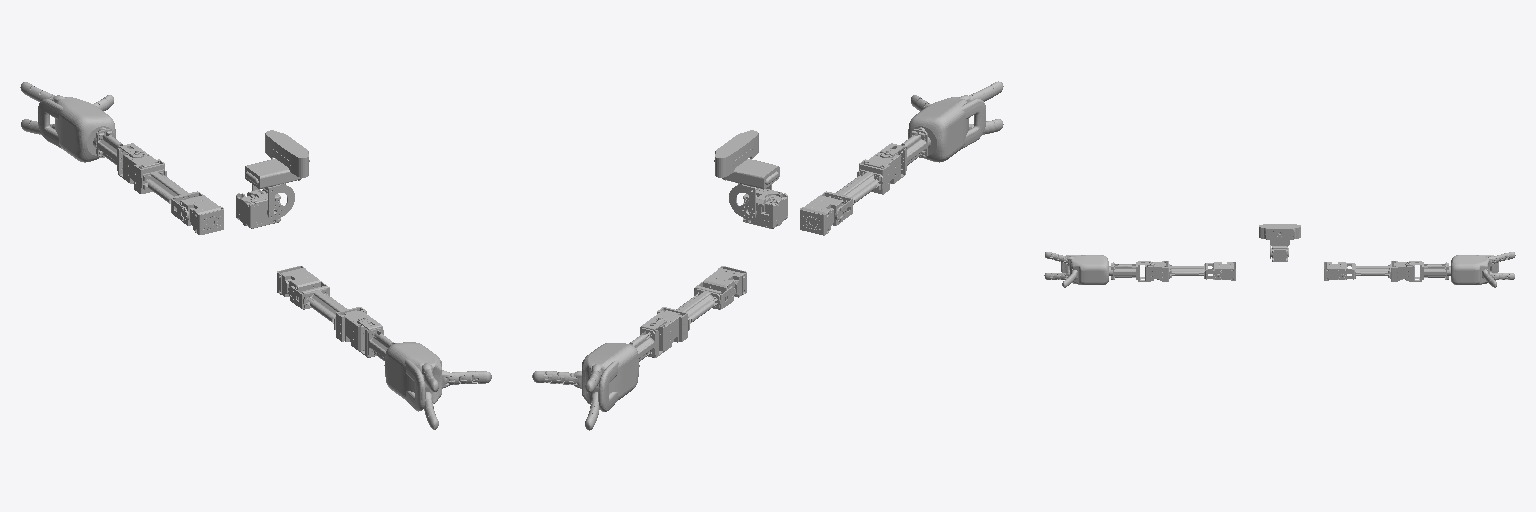
--- Render facts (derived) ---
Views: 3 orthographic renders of the robot side by side, from view 1: azimuth 30°, elevation 25°; view 2: azimuth 150°, elevation 25°; view 3: azimuth 270°, elevation 25°.
Robot: 323Assembase_limit3 — 29 links, 28 joints (28 revolute); root link base_link; default pose: every joint at zero.
Links seen in each view (by area): view 1: l_wrist_Link, head_tilt_Link, r_wrist_Link, l_sho_roll_Link, r_sho_roll_Link, l_sho_pitch_Link, head_pan_Link, l_el_Link, r_sho_pitch_Link, r_el_Link; view 2: r_wrist_Link, head_tilt_Link, l_wrist_Link, r_sho_roll_Link, l_sho_roll_Link, r_sho_pitch_Link, head_pan_Link, r_el_Link, l_sho_pitch_Link, l_el_Link; view 3: l_wrist_Link, r_wrist_Link, l_sho_roll_Link, r_sho_roll_Link, head_tilt_Link, l_el_Link, r_el_Link.
Link boxes in pixels (box(x1,y1,x2,y2)): l_wrist_Link: box(38, 95, 115, 162); head_tilt_Link: box(245, 130, 309, 219); r_wrist_Link: box(384, 342, 453, 411); l_sho_roll_Link: box(123, 150, 202, 221); r_sho_roll_Link: box(290, 281, 375, 350); l_sho_pitch_Link: box(180, 195, 223, 234); head_pan_Link: box(236, 188, 280, 228); l_el_Link: box(93, 127, 143, 177); r_sho_pitch_Link: box(277, 266, 320, 305); r_el_Link: box(357, 317, 394, 360); r_wrist_Link: box(908, 95, 985, 162); head_tilt_Link: box(714, 130, 779, 219); l_wrist_Link: box(570, 343, 639, 411); r_sho_roll_Link: box(822, 150, 900, 221); l_sho_roll_Link: box(650, 282, 733, 351); r_sho_pitch_Link: box(800, 195, 843, 235); head_pan_Link: box(743, 188, 787, 228); r_el_Link: box(880, 127, 930, 177); l_sho_pitch_Link: box(703, 266, 746, 305); l_el_Link: box(629, 317, 666, 361); l_wrist_Link: box(1451, 255, 1498, 284); r_wrist_Link: box(1061, 255, 1108, 284); l_sho_roll_Link: box(1341, 261, 1414, 281); r_sho_roll_Link: box(1145, 261, 1218, 281); head_tilt_Link: box(1259, 224, 1300, 258); l_el_Link: box(1409, 261, 1450, 281); r_el_Link: box(1109, 261, 1150, 281).
Bounding box of the posed robot: 0.1114 × 1.04 × 0.1696 m (x, y, z).
28 mesh visuals loaded from 29 distinct referenced files (28 binary STL); not drawn: 1 (reference not matched to a file when rendering).

The robot description file, URDF, robot "323Assembase_limit3":
<?xml version="1.0" encoding="utf-8"?>
<!-- This URDF was automatically created by SolidWorks to URDF Exporter! Originally created by Stephen Brawner ([email redacted]) 
     Commit Version: 1.5.1-0-g916b5db  Build Version: 1.5.7152.31018
     For more information, please see http://wiki.ros.org/sw_urdf_exporter -->
<robot
  name="323Assembase_limit3">
  <link
    name="base_link">
    <inertial>
      <origin
        xyz="-0.000133969014443958 9.89326606748442E-10 0.16568604874225"
        rpy="0 0 0" />
      <mass
        value="0.459362407581758" />
      <inertia
        ixx="0.00098999304970947"
        ixy="-5.22508964297137E-12"
        ixz="4.6696368166189E-09"
        iyy="0.000787503978866051"
        iyz="1.94259853491067E-13"
        izz="0.000705078033251521" />
    </inertial>
    <visual>
      <origin
        xyz="0 0 0"
        rpy="0 0 0" />
      <geometry>
        <mesh
          filename="package://323Assembase_limit3/meshes/base_link.STL" />
      </geometry>
      <material
        name="">
        <color
          rgba="0.752941176470588 0.752941176470588 0.752941176470588 1" />
      </material>
    </visual>
    <collision>
      <origin
        xyz="0 0 0"
        rpy="0 0 0" />
      <geometry>
        <mesh
          filename="package://323Assembase_limit3/meshes/base_link.STL" />
      </geometry>
    </collision>
  </link>
  <link
    name="l_sho_pitch_Link">
    <inertial>
      <origin
        xyz="-0.0005406824157623 -2.22044604925031E-16 0.0245654835477372"
        rpy="0 0 0" />
      <mass
        value="0.0454925431228223" />
      <inertia
        ixx="1.0654314308777E-05"
        ixy="4.23802619507106E-20"
        ixz="-1.18102281211707E-09"
        iyy="1.24319823177088E-05"
        iyz="2.70982193284878E-20"
        izz="7.521752614399E-06" />
    </inertial>
    <visual>
      <origin
        xyz="0 0 0"
        rpy="0 0 0" />
      <geometry>
        <mesh
          filename="package://323Assembase_limit3/meshes/l_sho_pitch_Link.STL" />
      </geometry>
      <material
        name="">
        <color
          rgba="0.752941176470588 0.752941176470588 0.752941176470588 1" />
      </material>
    </visual>
    <collision>
      <origin
        xyz="0 0 0"
        rpy="0 0 0" />
      <geometry>
        <mesh
          filename="package://323Assembase_limit3/meshes/l_sho_pitch_Link.STL" />
      </geometry>
    </collision>
  </link>
  <joint
    name="l_sho_pitch"
    type="revolute">
    <origin
      xyz="-0.0120506512284187 0.0996499999999908 0.26225000000001"
      rpy="1.5707963267949 0 3.14159265358979" />
    <parent
      link="base_link" />
    <child
      link="l_sho_pitch_Link" />
    <axis
      xyz="0 0 -1" />
    <limit
      lower="-1.9635"
      upper="1.9635"
      effort="0"
      velocity="0" />
  </joint>
  <link
    name="l_sho_roll_Link">
    <inertial>
      <origin
        xyz="-0.114571171375289 0.000361112480220749 0.0233999986462558"
        rpy="0 0 0" />
      <mass
        value="0.0683067367296715" />
      <inertia
        ixx="1.14188782482013E-05"
        ixy="-1.22522619068717E-09"
        ixz="7.047057877007E-13"
        iyy="2.35950770169053E-05"
        iyz="1.56833831908172E-13"
        izz="2.34186461869802E-05" />
    </inertial>
    <visual>
      <origin
        xyz="0 0 0"
        rpy="0 0 0" />
      <geometry>
        <mesh
          filename="package://323Assembase_limit3/meshes/l_sho_roll_Link.STL" />
      </geometry>
      <material
        name="">
        <color
          rgba="0.752941176470588 0.752941176470588 0.752941176470588 1" />
      </material>
    </visual>
    <collision>
      <origin
        xyz="0 0 0"
        rpy="0 0 0" />
      <geometry>
        <mesh
          filename="package://323Assembase_limit3/meshes/l_sho_roll_Link.STL" />
      </geometry>
    </collision>
  </link>
  <joint
    name="l_sho_roll"
    type="revolute">
    <origin
      xyz="-0.0233999999999993 0 0.0373500000000005"
      rpy="0 1.5707963267949 0" />
    <parent
      link="l_sho_pitch_Link" />
    <child
      link="l_sho_roll_Link" />
    <axis
      xyz="0 0 1" />
    <limit
      lower="-1.9635"
      upper="1.9635"
      effort="0"
      velocity="0" />
  </joint>
  <link
    name="l_el_Link">
    <inertial>
      <origin
        xyz="0.0548996145544712 1.58370669262609E-05 -0.0234250172989486"
        rpy="0 0 0" />
      <mass
        value="0.0174053024605066" />
      <inertia
        ixx="2.60006576701192E-06"
        ixy="-1.56559939078991E-11"
        ixz="-1.31971838548104E-12"
        iyy="5.64874733560434E-06"
        iyz="6.78407823608069E-11"
        izz="4.44823753783461E-06" />
    </inertial>
    <visual>
      <origin
        xyz="0 0 0"
        rpy="0 0 0" />
      <geometry>
        <mesh
          filename="package://323Assembase_limit3/meshes/l_el_Link.STL" />
      </geometry>
      <material
        name="">
        <color
          rgba="0.752941176470588 0.752941176470588 0.752941176470588 1" />
      </material>
    </visual>
    <collision>
      <origin
        xyz="0 0 0"
        rpy="0 0 0" />
      <geometry>
        <mesh
          filename="package://323Assembase_limit3/meshes/l_el_Link.STL" />
      </geometry>
    </collision>
  </link>
  <joint
    name="l_el"
    type="revolute">
    <origin
      xyz="-0.14975000000001 0.0234000000000006 0.0234000000000023"
      rpy="1.57079632679489 0 3.14159265358979" />
    <parent
      link="l_sho_roll_Link" />
    <child
      link="l_el_Link" />
    <axis
      xyz="0 0 -1" />
    <limit
      lower="-1.9635"
      upper="1.9635"
      effort="0"
      velocity="0" />
  </joint>
  <link
    name="l_wrist_Link">
    <inertial>
      <origin
        xyz="0.00474142564893418 -2.64903437617314E-05 0.043635944885484"
        rpy="0 0 0" />
      <mass
        value="0.242911229890248" />
      <inertia
        ixx="0.000201329292165169"
        ixy="-6.68429523756945E-08"
        ixz="-2.02035061196406E-05"
        iyy="0.00019353855260716"
        iyz="1.4599140632117E-07"
        izz="0.000114593035667258" />
    </inertial>
    <visual>
      <origin
        xyz="0 0 0"
        rpy="0 0 0" />
      <geometry>
        <mesh
          filename="package://323Assembase_limit3/meshes/l_wrist_Link.STL" />
      </geometry>
      <material
        name="">
        <color
          rgba="0.752941176470588 0.752941176470588 0.752941176470588 1" />
      </material>
    </visual>
    <collision>
      <origin
        xyz="0 0 0"
        rpy="0 0 0" />
      <geometry>
        <mesh
          filename="package://323Assembase_limit3/meshes/l_wrist_Link.STL" />
      </geometry>
    </collision>
  </link>
  <joint
    name="l_wrist"
    type="revolute">
    <origin
      xyz="0.09100000000001 0.000112860367308426 -0.0235570000250144"
      rpy="1.57079632575888 0 1.53588974175502" />
    <parent
      link="l_el_Link" />
    <child
      link="l_wrist_Link" />
    <axis
      xyz="-0.0348994967025002 0 -0.999390827019096" />
    <limit
      lower="-1.5708"
      upper="1.5708"
      effort="0"
      velocity="0" />
  </joint>
  <link
    name="l_mid_base_Link">
    <inertial>
      <origin
        xyz="-0.471526325566169 -0.0201493652250813 0.00321465921237091"
        rpy="0 0 0" />
      <mass
        value="1.3604423430361" />
      <inertia
        ixx="0.010826010663876"
        ixy="-2.36896908304622E-05"
        ixz="6.47472924204023E-06"
        iyy="0.112314099678239"
        iyz="0.000178087137949006"
        izz="0.102779960315736" />
    </inertial>
    <visual>
      <origin
        xyz="0 0 0"
        rpy="0 0 0" />
      <geometry>
        <mesh
          filename="package://323Assembase_limit3/meshes/l_mid_base_Link.STL" />
      </geometry>
      <material
        name="">
        <color
          rgba="0.752941176470588 0.752941176470588 0.752941176470588 1" />
      </material>
    </visual>
    <collision>
      <origin
        xyz="0 0 0"
        rpy="0 0 0" />
      <geometry>
        <mesh
          filename="package://323Assembase_limit3/meshes/l_mid_base_Link.STL" />
      </geometry>
    </collision>
  </link>
  <joint
    name="l_mid_base"
    type="revolute">
    <origin
      xyz="0.016807 -0.025543 0.093217"
      rpy="-1.5708 -1.5359 0" />
    <parent
      link="l_wrist_Link" />
    <child
      link="l_mid_base_Link" />
    <axis
      xyz="-0.11366 -0.077458 -0.9905" />
    <limit
      lower="0"
      upper="1.5708"
      effort="0"
      velocity="0" />
  </joint>
  <link
    name="l_mid_middle_Link">
    <inertial>
      <origin
        xyz="-0.485751440443657 -0.0267142174551622 0.0067372834300328"
        rpy="0 0 0" />
      <mass
        value="1.3604423430361" />
      <inertia
        ixx="0.010826010663876"
        ixy="-2.36896908304758E-05"
        ixz="6.47472924204414E-06"
        iyy="0.112314099678239"
        iyz="0.000178087137949008"
        izz="0.102779960315736" />
    </inertial>
    <visual>
      <origin
        xyz="0 0 0"
        rpy="0 0 0" />
      <geometry>
        <mesh
          filename="package://323Assembase_limit3/meshes/l_mid_middle_Link.STL" />
      </geometry>
      <material
        name="">
        <color
          rgba="0.752941176470588 0.752941176470588 0.752941176470588 1" />
      </material>
    </visual>
    <collision>
      <origin
        xyz="0 0 0"
        rpy="0 0 0" />
      <geometry>
        <mesh
          filename="package://323Assembase_limit3/meshes/l_mid_middle_Link.STL" />
      </geometry>
    </collision>
  </link>
  <joint
    name="l_mid_middle"
    type="revolute">
    <origin
      xyz="0.014225 0.0065649 -0.0035226"
      rpy="0 0 0" />
    <parent
      link="l_mid_base_Link" />
    <child
      link="l_mid_middle_Link" />
    <axis
      xyz="-0.11366 -0.077458 -0.9905" />
    <limit
      lower="0"
      upper="1.5708"
      effort="0"
      velocity="0" />
  </joint>
  <link
    name="l_mid_tip_Link">
    <inertial>
      <origin
        xyz="-0.500667347911999 -0.0320964228635539 0.0088697791670069"
        rpy="0 0 0" />
      <mass
        value="1.3604423430361" />
      <inertia
        ixx="0.010826010663876"
        ixy="-2.3689690830463E-05"
        ixz="6.47472924160162E-06"
        iyy="0.112314099678239"
        iyz="0.000178087137949002"
        izz="0.102779960315736" />
    </inertial>
    <visual>
      <origin
        xyz="0 0 0"
        rpy="0 0 0" />
      <geometry>
        <mesh
          filename="package://323Assembase_limit3/meshes/l_mid_tip_Link.STL" />
      </geometry>
      <material
        name="">
        <color
          rgba="0.752941176470588 0.752941176470588 0.752941176470588 1" />
      </material>
    </visual>
    <collision>
      <origin
        xyz="0 0 0"
        rpy="0 0 0" />
      <geometry>
        <mesh
          filename="package://323Assembase_limit3/meshes/l_mid_tip_Link.STL" />
      </geometry>
    </collision>
  </link>
  <joint
    name="l_mid_tip"
    type="revolute">
    <origin
      xyz="0.014916 0.0053822 -0.0021325"
      rpy="0 0 0" />
    <parent
      link="l_mid_middle_Link" />
    <child
      link="l_mid_tip_Link" />
    <axis
      xyz="-0.11366 -0.077458 -0.9905" />
    <limit
      lower="0"
      upper="1.5708"
      effort="0"
      velocity="0" />
  </joint>
  <link
    name="l_thumb_base_Link">
    <inertial>
      <origin
        xyz="-0.456732178224589 0.0202231709999454 -0.0278013573056378"
        rpy="0 0 0" />
      <mass
        value="1.3604423430361" />
      <inertia
        ixx="0.010826010663876"
        ixy="-2.36896908304622E-05"
        ixz="6.4747292420385E-06"
        iyy="0.112314099678239"
        iyz="0.000178087137949006"
        izz="0.102779960315736" />
    </inertial>
    <visual>
      <origin
        xyz="0 0 0"
        rpy="0 0 0" />
      <geometry>
        <mesh
          filename="package://323Assembase_limit3/meshes/l_thumb_base_Link.STL" />
      </geometry>
      <material
        name="">
        <color
          rgba="0.752941176470588 0.752941176470588 0.752941176470588 1" />
      </material>
    </visual>
    <collision>
      <origin
        xyz="0 0 0"
        rpy="0 0 0" />
      <geometry>
        <mesh
          filename="package://323Assembase_limit3/meshes/l_thumb_base_Link.STL" />
      </geometry>
    </collision>
  </link>
  <joint
    name="l_thumb_base"
    type="revolute">
    <origin
      xyz="-0.024057 0.0054731 0.079841"
      rpy="-1.5708 -1.5359 0" />
    <parent
      link="l_wrist_Link" />
    <child
      link="l_thumb_base_Link" />
    <axis
      xyz="0 0.0083086 0.99997" />
    <limit
      lower="0"
      upper="1.5708"
      effort="0"
      velocity="0" />
  </joint>
  <link
    name="l_thumb_middle_Link">
    <inertial>
      <origin
        xyz="-0.462204508959631 0.0353563005138142 -0.0160628625749824"
        rpy="0 0 0" />
      <mass
        value="1.3604423430361" />
      <inertia
        ixx="0.010826010663876"
        ixy="-2.36896908304622E-05"
        ixz="6.4747292420411E-06"
        iyy="0.112314099678239"
        iyz="0.000178087137949006"
        izz="0.102779960315736" />
    </inertial>
    <visual>
      <origin
        xyz="0 0 0"
        rpy="0 0 0" />
      <geometry>
        <mesh
          filename="package://323Assembase_limit3/meshes/l_thumb_middle_Link.STL" />
      </geometry>
      <material
        name="">
        <color
          rgba="0.752941176470588 0.752941176470588 0.752941176470588 1" />
      </material>
    </visual>
    <collision>
      <origin
        xyz="0 0 0"
        rpy="0 0 0" />
      <geometry>
        <mesh
          filename="package://323Assembase_limit3/meshes/l_thumb_middle_Link.STL" />
      </geometry>
    </collision>
  </link>
  <joint
    name="l_thumb_middle"
    type="revolute">
    <origin
      xyz="0.0054723 -0.015133 -0.011738"
      rpy="0 0 0" />
    <parent
      link="l_thumb_base_Link" />
    <child
      link="l_thumb_middle_Link" />
    <axis
      xyz="0 0.0083086 0.99997" />
    <limit
      lower="0"
      upper="1.5708"
      effort="0"
      velocity="0" />
  </joint>
  <link
    name="l_thumb_tip_Link">
    <inertial>
      <origin
        xyz="-0.467676831252841 0.0503908634746623 -0.0161877837322177"
        rpy="0 0 0" />
      <mass
        value="1.3604423430361" />
      <inertia
        ixx="0.010826010663876"
        ixy="-2.36896908304622E-05"
        ixz="6.4747292420424E-06"
        iyy="0.112314099678239"
        iyz="0.000178087137949006"
        izz="0.102779960315736" />
    </inertial>
    <visual>
      <origin
        xyz="0 0 0"
        rpy="0 0 0" />
      <geometry>
        <mesh
          filename="package://323Assembase_limit3/meshes/l_thumb_tip_Link.STL" />
      </geometry>
      <material
        name="">
        <color
          rgba="0.752941176470588 0.752941176470588 0.752941176470588 1" />
      </material>
    </visual>
    <collision>
      <origin
        xyz="0 0 0"
        rpy="0 0 0" />
      <geometry>
        <mesh
          filename="package://323Assembase_limit3/meshes/l_thumb_tip_Link.STL" />
      </geometry>
    </collision>
  </link>
  <joint
    name="l_thumb_tip"
    type="revolute">
    <origin
      xyz="0.0054723 -0.015035 0.00012492"
      rpy="0 0 0" />
    <parent
      link="l_thumb_middle_Link" />
    <child
      link="l_thumb_tip_Link" />
    <axis
      xyz="0 0.0083086 0.99997" />
    <limit
      lower="0"
      upper="1.5708"
      effort="0"
      velocity="0" />
  </joint>
  <link
    name="l_index_base_Link">
    <inertial>
      <origin
        xyz="-0.472719749532897 -0.0212123133426343 -0.0372303111607363"
        rpy="0 0 0" />
      <mass
        value="1.3604423430361" />
      <inertia
        ixx="0.010826010663876"
        ixy="-2.36896908304756E-05"
        ixz="6.47472924204847E-06"
        iyy="0.112314099678239"
        iyz="0.000178087137949009"
        izz="0.102779960315736" />
    </inertial>
    <visual>
      <origin
        xyz="0 0 0"
        rpy="0 0 0" />
      <geometry>
        <mesh
          filename="package://323Assembase_limit3/meshes/l_index_base_Link.STL" />
      </geometry>
      <material
        name="">
        <color
          rgba="0.752941176470588 0.752941176470588 0.752941176470588 1" />
      </material>
    </visual>
    <collision>
      <origin
        xyz="0 0 0"
        rpy="0 0 0" />
      <geometry>
        <mesh
          filename="package://323Assembase_limit3/meshes/l_index_base_Link.STL" />
      </geometry>
    </collision>
  </link>
  <joint
    name="l_index_base"
    type="revolute">
    <origin
      xyz="0.017911 0.014902 0.094373"
      rpy="-1.5708 -1.5359 0" />
    <parent
      link="l_wrist_Link" />
    <child
      link="l_index_base_Link" />
    <axis
      xyz="0.11366 0.060988 -0.99165" />
    <limit
      lower="0"
      upper="1.5708"
      effort="0"
      velocity="0" />
  </joint>
  <link
    name="l_index_middle_Link">
    <inertial>
      <origin
        xyz="-0.487254887781612 -0.0280011488877967 -0.0379384972174282"
        rpy="0 0 0" />
      <mass
        value="1.3604423430361" />
      <inertia
        ixx="0.010826010663876"
        ixy="-2.36896908304589E-05"
        ixz="6.4747292420359E-06"
        iyy="0.112314099678239"
        iyz="0.000178087137949007"
        izz="0.102779960315736" />
    </inertial>
    <visual>
      <origin
        xyz="0 0 0"
        rpy="0 0 0" />
      <geometry>
        <mesh
          filename="package://323Assembase_limit3/meshes/l_index_middle_Link.STL" />
      </geometry>
      <material
        name="">
        <color
          rgba="0.752941176470588 0.752941176470588 0.752941176470588 1" />
      </material>
    </visual>
    <collision>
      <origin
        xyz="0 0 0"
        rpy="0 0 0" />
      <geometry>
        <mesh
          filename="package://323Assembase_limit3/meshes/l_index_middle_Link.STL" />
      </geometry>
    </collision>
  </link>
  <joint
    name="l_index_middle"
    type="revolute">
    <origin
      xyz="0.014535 0.0067888 0.00070819"
      rpy="0 0 0" />
    <parent
      link="l_index_base_Link" />
    <child
      link="l_index_middle_Link" />
    <axis
      xyz="0.11366 0.060988 -0.99165" />
    <limit
      lower="0"
      upper="1.5708"
      effort="0"
      velocity="0" />
  </joint>
  <link
    name="l_index_tip_Link">
    <inertial>
      <origin
        xyz="-0.502199210106304 -0.0334332933780338 -0.0397333524270101"
        rpy="0 0 0" />
      <mass
        value="1.3604423430361" />
      <inertia
        ixx="0.010826010663876"
        ixy="-2.36896908304756E-05"
        ixz="6.47472924203286E-06"
        iyy="0.112314099678239"
        iyz="0.000178087137949008"
        izz="0.102779960315736" />
    </inertial>
    <visual>
      <origin
        xyz="0 0 0"
        rpy="0 0 0" />
      <geometry>
        <mesh
          filename="package://323Assembase_limit3/meshes/l_index_tip_Link.STL" />
      </geometry>
      <material
        name="">
        <color
          rgba="0.752941176470588 0.752941176470588 0.752941176470588 1" />
      </material>
    </visual>
    <collision>
      <origin
        xyz="0 0 0"
        rpy="0 0 0" />
      <geometry>
        <mesh
          filename="package://323Assembase_limit3/meshes/l_index_tip_Link.STL" />
      </geometry>
    </collision>
  </link>
  <joint
    name="l_index_tip"
    type="revolute">
    <origin
      xyz="0.014944 0.0054321 0.0017949"
      rpy="0 0 0" />
    <parent
      link="l_index_middle_Link" />
    <child
      link="l_index_tip_Link" />
    <axis
      xyz="0.11366 0.060988 -0.99165" />
    <limit
      lower="0"
      upper="1.5708"
      effort="0"
      velocity="0" />
  </joint>
  <link
    name="head_pan_Link">
    <inertial>
      <origin
        xyz="-0.000696471391857217 -0.0121649749441773 0.0120690920533081"
        rpy="0 0 0" />
      <mass
        value="0.0545238187463741" />
      <inertia
        ixx="1.43370693835164E-05"
        ixy="-6.47588162430242E-10"
        ixz="3.44113177968006E-07"
        iyy="1.01576293785236E-05"
        iyz="8.44322868452495E-10"
        izz="1.43124087682231E-05" />
    </inertial>
    <visual>
      <origin
        xyz="0 0 0"
        rpy="0 0 0" />
      <geometry>
        <mesh
          filename="package://323Assembase_limit3/meshes/head_pan_Link.STL" />
      </geometry>
      <material
        name="">
        <color
          rgba="0.752941176470588 0.752941176470588 0.752941176470588 1" />
      </material>
    </visual>
    <collision>
      <origin
        xyz="0 0 0"
        rpy="0 0 0" />
      <geometry>
        <mesh
          filename="package://323Assembase_limit3/meshes/head_pan_Link.STL" />
      </geometry>
    </collision>
  </link>
  <joint
    name="head_pan"
    type="revolute">
    <origin
      xyz="-0.012051 0 0.3059"
      rpy="0 0 1.5708" />
    <parent
      link="base_link" />
    <child
      link="head_pan_Link" />
    <axis
      xyz="0 0 1" />
    <limit
      lower="-1.5708"
      upper="1.5708"
      effort="0"
      velocity="0" />
  </joint>
  <link
    name="head_tilt_Link">
    <inertial>
      <origin
        xyz="0.0298038345161363 0.0528266562007575 0.0240222090935989"
        rpy="0 0 0" />
      <mass
        value="0.098325768394096" />
      <inertia
        ixx="4.24095314514464E-05"
        ixy="1.21628536469904E-07"
        ixz="3.1791479497428E-10"
        iyy="5.37581176353636E-05"
        iyz="9.41670726442259E-10"
        izz="2.04343779695757E-05" />
    </inertial>
    <visual>
      <origin
        xyz="0 0 0"
        rpy="0 0 0" />
      <geometry>
        <mesh
          filename="package://323Assembase_limit3/meshes/head_tilt_Link.STL" />
      </geometry>
      <material
        name="">
        <color
          rgba="0.752941176470588 0.752941176470588 0.752941176470588 1" />
      </material>
    </visual>
    <collision>
      <origin
        xyz="0 0 0"
        rpy="0 0 0" />
      <geometry>
        <mesh
          filename="package://323Assembase_limit3/meshes/head_tilt_Link.STL" />
      </geometry>
    </collision>
  </link>
  <joint
    name="head_tilt"
    type="revolute">
    <origin
      xyz="0.024 -0.013 0.013"
      rpy="1.5708 0 -1.5708" />
    <parent
      link="head_pan_Link" />
    <child
      link="head_tilt_Link" />
    <axis
      xyz="0 0 -1" />
    <limit
      lower="-0.61087"
      upper="0.61087"
      effort="0"
      velocity="0" />
  </joint>
  <link
    name="r_sho_pitch_Link">
    <inertial>
      <origin
        xyz="0.000540682415763577 -5.55111512312578E-17 0.0245654835477484"
        rpy="0 0 0" />
      <mass
        value="0.0454925431228223" />
      <inertia
        ixx="1.0654314308777E-05"
        ixy="3.10360380835615E-20"
        ixz="1.18102281196333E-09"
        iyy="1.24319823177088E-05"
        iyz="-3.20398754724841E-20"
        izz="7.521752614399E-06" />
    </inertial>
    <visual>
      <origin
        xyz="0 0 0"
        rpy="0 0 0" />
      <geometry>
        <mesh
          filename="package://323Assembase_limit3/meshes/r_sho_pitch_Link.STL" />
      </geometry>
      <material
        name="">
        <color
          rgba="0.752941176470588 0.752941176470588 0.752941176470588 1" />
      </material>
    </visual>
    <collision>
      <origin
        xyz="0 0 0"
        rpy="0 0 0" />
      <geometry>
        <mesh
          filename="package://323Assembase_limit3/meshes/r_sho_pitch_Link.STL" />
      </geometry>
    </collision>
  </link>
  <joint
    name="r_sho_pitch"
    type="revolute">
    <origin
      xyz="-0.012051 -0.09965 0.26225"
      rpy="1.5708 0 0" />
    <parent
      link="base_link" />
    <child
      link="r_sho_pitch_Link" />
    <axis
      xyz="0 0 -1" />
    <limit
      lower="-1.9635"
      upper="1.9635"
      effort="0"
      velocity="0" />
  </joint>
  <link
    name="r_sho_roll_Link">
    <inertial>
      <origin
        xyz="-0.114571171376653 0.000361112480180725 -0.0234000013547074"
        rpy="0 0 0" />
      <mass
        value="0.0683067367253008" />
      <inertia
        ixx="1.14188782475941E-05"
        ixy="-1.22522621832662E-09"
        ixz="7.03692794728026E-13"
        iyy="2.35950770146494E-05"
        iyz="1.56850087153504E-13"
        izz="2.34186461853649E-05" />
    </inertial>
    <visual>
      <origin
        xyz="0 0 0"
        rpy="0 0 0" />
      <geometry>
        <mesh
          filename="package://323Assembase_limit3/meshes/r_sho_roll_Link.STL" />
      </geometry>
      <material
        name="">
        <color
          rgba="0.752941176470588 0.752941176470588 0.752941176470588 1" />
      </material>
    </visual>
    <collision>
      <origin
        xyz="0 0 0"
        rpy="0 0 0" />
      <geometry>
        <mesh
          filename="package://323Assembase_limit3/meshes/r_sho_roll_Link.STL" />
      </geometry>
    </collision>
  </link>
  <joint
    name="r_sho_roll"
    type="revolute">
    <origin
      xyz="0.0234 0 0.03735"
      rpy="0 1.5708 0" />
    <parent
      link="r_sho_pitch_Link" />
    <child
      link="r_sho_roll_Link" />
    <axis
      xyz="0 0 -1" />
    <limit
      lower="-1.9635"
      upper="1.9635"
      effort="0"
      velocity="0" />
  </joint>
  <link
    name="r_el_Link">
    <inertial>
      <origin
        xyz="-0.0548996145542995 -1.58370669052221E-05 -0.0234250172991484"
        rpy="0 0 0" />
      <mass
        value="0.0174053024608171" />
      <inertia
        ixx="2.60006576705227E-06"
        ixy="-1.56559980629803E-11"
        ixz="1.319758258888E-12"
        iyy="5.6487473356839E-06"
        iyz="-6.78407779197865E-11"
        izz="4.44823753787192E-06" />
    </inertial>
    <visual>
      <origin
        xyz="0 0 0"
        rpy="0 0 0" />
      <geometry>
        <mesh
          filename="package://323Assembase_limit3/meshes/r_el_Link.STL" />
      </geometry>
      <material
        name="">
        <color
          rgba="0.752941176470588 0.752941176470588 0.752941176470588 1" />
      </material>
    </visual>
    <collision>
      <origin
        xyz="0 0 0"
        rpy="0 0 0" />
      <geometry>
        <mesh
          filename="package://323Assembase_limit3/meshes/r_el_Link.STL" />
      </geometry>
    </collision>
  </link>
  <joint
    name="r_el"
    type="revolute">
    <origin
      xyz="-0.14975 0.0234 -0.0234"
      rpy="-1.5708 0 0" />
    <parent
      link="r_sho_roll_Link" />
    <child
      link="r_el_Link" />
    <axis
      xyz="0 0 -1" />
    <limit
      lower="-1.9635"
      upper="1.9635"
      effort="0"
      velocity="0" />
  </joint>
  <link
    name="r_wrist_Link">
    <inertial>
      <origin
        xyz="-0.00321577353432781 -2.28066577567798E-07 0.043774836595192"
        rpy="0 0 0" />
      <mass
        value="0.242911229853577" />
      <inertia
        ixx="0.000202633540533886"
        ixy="3.65740042148417E-09"
        ixz="1.71296972145778E-05"
        iyy="0.000193537968669788"
        iyz="-1.24734937048739E-09"
        izz="0.00011328934949397" />
    </inertial>
    <visual>
      <origin
        xyz="0 0 0"
        rpy="0 0 0" />
      <geometry>
        <mesh
          filename="package://323Assembase_limit3/meshes/r_wrist_Link.STL" />
      </geometry>
      <material
        name="">
        <color
          rgba="0.752941176470588 0.752941176470588 0.752941176470588 1" />
      </material>
    </visual>
    <collision>
      <origin
        xyz="0 0 0"
        rpy="0 0 0" />
      <geometry>
        <mesh
          filename="package://323Assembase_limit3/meshes/r_wrist_Link.STL" />
      </geometry>
    </collision>
  </link>
  <joint
    name="r_wrist"
    type="revolute">
    <origin
      xyz="-0.0910000000000099 -0.000112860367308509 -0.0235570000250147"
      rpy="1.5707963267949 0 -1.57079632679488" />
    <parent
      link="r_el_Link" />
    <child
      link="r_wrist_Link" />
    <axis
      xyz="0 0 -1" />
    <limit
      lower="-1.5708"
      upper="1.5708"
      effort="0"
      velocity="0" />
  </joint>
  <link
    name="r_index_base_Link">
    <inertial>
      <origin
        xyz="-0.472660750561615 -0.0208622725478406 0.0373511579691946"
        rpy="0 0 0" />
      <mass
        value="1.3604423430361" />
      <inertia
        ixx="0.010826010663876"
        ixy="2.36896908304758E-05"
        ixz="6.47472924207484E-06"
        iyy="0.112314099678239"
        iyz="-0.000178087137949001"
        izz="0.102779960315736" />
    </inertial>
    <visual>
      <origin
        xyz="0 0 0"
        rpy="0 0 0" />
      <geometry>
        <mesh
          filename="package://323Assembase_limit3/meshes/r_index_base_Link.STL" />
      </geometry>
      <material
        name="">
        <color
          rgba="0.752941176470588 0.752941176470588 0.752941176470588 1" />
      </material>
    </visual>
    <collision>
      <origin
        xyz="0 0 0"
        rpy="0 0 0" />
      <geometry>
        <mesh
          filename="package://323Assembase_limit3/meshes/r_index_base_Link.STL" />
      </geometry>
    </collision>
  </link>
  <joint
    name="r_index_base"
    type="revolute">
    <origin
      xyz="-0.014482 0.015023 0.09494"
      rpy="1.5708 -1.5708 0" />
    <parent
      link="r_wrist_Link" />
    <child
      link="r_index_base_Link" />
    <axis
      xyz="-0.11366 -0.069226 -0.99111" />
    <limit
      lower="0"
      upper="1.5708"
      effort="0"
      velocity="0" />
  </joint>
  <link
    name="r_index_middle_Link">
    <inertial>
      <origin
        xyz="-0.487195884818587 -0.0276449893263672 0.0381157258335041"
        rpy="0 0 0" />
      <mass
        value="1.3604423430361" />
      <inertia
        ixx="0.010826010663876"
        ixy="2.3689690830476E-05"
        ixz="6.47472924207527E-06"
        iyy="0.112314099678239"
        iyz="-0.000178087137949001"
        izz="0.102779960315736" />
    </inertial>
    <visual>
      <origin
        xyz="0 0 0"
        rpy="0 0 0" />
      <geometry>
        <mesh
          filename="package://323Assembase_limit3/meshes/r_index_middle_Link.STL" />
      </geometry>
      <material
        name="">
        <color
          rgba="0.752941176470588 0.752941176470588 0.752941176470588 1" />
      </material>
    </visual>
    <collision>
      <origin
        xyz="0 0 0"
        rpy="0 0 0" />
      <geometry>
        <mesh
          filename="package://323Assembase_limit3/meshes/r_index_middle_Link.STL" />
      </geometry>
    </collision>
  </link>
  <joint
    name="r_index_middle"
    type="revolute">
    <origin
      xyz="0.014535 0.0067827 -0.00076457"
      rpy="0 0 0" />
    <parent
      link="r_index_base_Link" />
    <child
      link="r_index_middle_Link" />
    <axis
      xyz="-0.11366 -0.069226 -0.99111" />
    <limit
      lower="0"
      upper="1.5708"
      effort="0"
      velocity="0" />
  </joint>
  <link
    name="r_index_tip_Link">
    <inertial>
      <origin
        xyz="-0.502111792271464 -0.0330447274487438 0.0402034291508733"
        rpy="0 0 0" />
      <mass
        value="1.3604423430361" />
      <inertia
        ixx="0.010826010663876"
        ixy="2.36896908304621E-05"
        ixz="6.47472924206443E-06"
        iyy="0.112314099678239"
        iyz="-0.000178087137948999"
        izz="0.102779960315736" />
    </inertial>
    <visual>
      <origin
        xyz="0 0 0"
        rpy="0 0 0" />
      <geometry>
        <mesh
          filename="package://323Assembase_limit3/meshes/r_index_tip_Link.STL" />
      </geometry>
      <material
        name="">
        <color
          rgba="0.752941176470588 0.752941176470588 0.752941176470588 1" />
      </material>
    </visual>
    <collision>
      <origin
        xyz="0 0 0"
        rpy="0 0 0" />
      <geometry>
        <mesh
          filename="package://323Assembase_limit3/meshes/r_index_tip_Link.STL" />
      </geometry>
    </collision>
  </link>
  <joint
    name="r_index_tip"
    type="revolute">
    <origin
      xyz="0.0149159074528774 0.00539973812237651 -0.00208770331736918"
      rpy="0 0 0" />
    <parent
      link="r_index_middle_Link" />
    <child
      link="r_index_tip_Link" />
    <axis
      xyz="-0.113659425402711 -0.0692255742308792 -0.991105117981706" />
    <limit
      lower="0"
      upper="1.5708"
      effort="0"
      velocity="0" />
  </joint>
  <link
    name="r_mid_base_Link">
    <inertial>
      <origin
        xyz="-0.471467326594887 -0.0201354040184166 -0.003101248007744"
        rpy="0 0 0" />
      <mass
        value="1.3604423430361" />
      <inertia
        ixx="0.010826010663876"
        ixy="2.3689690830476E-05"
        ixz="6.4747292420692E-06"
        iyy="0.112314099678239"
        iyz="-0.000178087137949001"
        izz="0.102779960315736" />
    </inertial>
    <visual>
      <origin
        xyz="0 0 0"
        rpy="0 0 0" />
      <geometry>
        <mesh
          filename="package://323Assembase_limit3/meshes/r_mid_base_Link.STL" />
      </geometry>
      <material
        name="">
        <color
          rgba="0.752941176470588 0.752941176470588 0.752941176470588 1" />
      </material>
    </visual>
    <collision>
      <origin
        xyz="0 0 0"
        rpy="0 0 0" />
      <geometry>
        <mesh
          filename="package://323Assembase_limit3/meshes/r_mid_base_Link.STL" />
      </geometry>
    </collision>
  </link>
  <joint
    name="r_mid_base"
    type="revolute">
    <origin
      xyz="-0.013755 -0.02543 0.093747"
      rpy="1.5708 -1.5708 0" />
    <parent
      link="r_wrist_Link" />
    <child
      link="r_mid_base_Link" />
    <axis
      xyz="0.11366 0.069226 -0.99111" />
    <limit
      lower="0"
      upper="1.5708"
      effort="0"
      velocity="0" />
  </joint>
  <link
    name="r_mid_middle_Link">
    <inertial>
      <origin
        xyz="-0.485692437640989 -0.0267292976111735 -0.0065692044374728"
        rpy="0 0 0" />
      <mass
        value="1.3604423430361" />
      <inertia
        ixx="0.010826010663876"
        ixy="2.36896908304621E-05"
        ixz="6.47472924206096E-06"
        iyy="0.112314099678239"
        iyz="-0.000178087137948999"
        izz="0.102779960315736" />
    </inertial>
    <visual>
      <origin
        xyz="0 0 0"
        rpy="0 0 0" />
      <geometry>
        <mesh
          filename="package://323Assembase_limit3/meshes/r_mid_middle_Link.STL" />
      </geometry>
      <material
        name="">
        <color
          rgba="0.752941176470588 0.752941176470588 0.752941176470588 1" />
      </material>
    </visual>
    <collision>
      <origin
        xyz="0 0 0"
        rpy="0 0 0" />
      <geometry>
        <mesh
          filename="package://323Assembase_limit3/meshes/r_mid_middle_Link.STL" />
      </geometry>
    </collision>
  </link>
  <joint
    name="r_mid_middle"
    type="revolute">
    <origin
      xyz="0.014225 0.0065939 0.003468"
      rpy="0 0 0" />
    <parent
      link="r_mid_base_Link" />
    <child
      link="r_mid_middle_Link" />
    <axis
      xyz="0.11366 0.069226 -0.99111" />
    <limit
      lower="0"
      upper="1.5708"
      effort="0"
      velocity="0" />
  </joint>
  <link
    name="r_mid_tip_Link">
    <inertial>
      <origin
        xyz="-0.500608345093866 -0.0321290357335499 -0.00865690775484196"
        rpy="0 0 0" />
      <mass
        value="1.3604423430361" />
      <inertia
        ixx="0.010826010663876"
        ixy="2.36896908304597E-05"
        ixz="6.47472924203841E-06"
        iyy="0.112314099678239"
        iyz="-0.000178087137949002"
        izz="0.102779960315736" />
    </inertial>
    <visual>
      <origin
        xyz="0 0 0"
        rpy="0 0 0" />
      <geometry>
        <mesh
          filename="package://323Assembase_limit3/meshes/r_mid_tip_Link.STL" />
      </geometry>
      <material
        name="">
        <color
          rgba="0.752941176470588 0.752941176470588 0.752941176470588 1" />
      </material>
    </visual>
    <collision>
      <origin
        xyz="0 0 0"
        rpy="0 0 0" />
      <geometry>
        <mesh
          filename="package://323Assembase_limit3/meshes/r_mid_tip_Link.STL" />
      </geometry>
    </collision>
  </link>
  <joint
    name="r_mid_tip"
    type="revolute">
    <origin
      xyz="0.0149159074528774 0.00539973812237651 0.00208770331736916"
      rpy="0 0 0" />
    <parent
      link="r_mid_middle_Link" />
    <child
      link="r_mid_tip_Link" />
    <axis
      xyz="0.113659425402707 0.0692255742308725 -0.991105117981707" />
    <limit
      lower="0"
      upper="1.5708"
      effort="0"
      velocity="0" />
  </joint>
  <link
    name="r_thumb_base_Link">
    <inertial>
      <origin
        xyz="-0.456673179253306 0.0204934397205109 0.0170782568501292"
        rpy="0 0 0" />
      <mass
        value="1.3604423430361" />
      <inertia
        ixx="0.010826010663876"
        ixy="2.36896908304619E-05"
        ixz="6.47472924206356E-06"
        iyy="0.112314099678239"
        iyz="-0.000178087137948999"
        izz="0.102779960315736" />
    </inertial>
    <visual>
      <origin
        xyz="0 0 0"
        rpy="0 0 0" />
      <geometry>
        <mesh
          filename="package://323Assembase_limit3/meshes/r_thumb_base_Link.STL" />
      </geometry>
      <material
        name="">
        <color
          rgba="0.752941176470588 0.752941176470588 0.752941176470588 1" />
      </material>
    </visual>
    <collision>
      <origin
        xyz="0 0 0"
        rpy="0 0 0" />
      <geometry>
        <mesh
          filename="package://323Assembase_limit3/meshes/r_thumb_base_Link.STL" />
      </geometry>
    </collision>
  </link>
  <joint
    name="r_thumb_base"
    type="revolute">
    <origin
      xyz="0.026873 -0.00525 0.078953"
      rpy="1.5708 -1.5708 0" />
    <parent
      link="r_wrist_Link" />
    <child
      link="r_thumb_base_Link" />
    <axis
      xyz="0 0 1" />
    <limit
      lower="0"
      upper="1.5708"
      effort="0"
      velocity="0" />
  </joint>
  <link
    name="r_thumb_middle_Link">
    <inertial>
      <origin
        xyz="-0.462145512536487 0.0355285189152613 0.0157144307964265"
        rpy="0 0 0" />
      <mass
        value="1.3604423430361" />
      <inertia
        ixx="0.010826010663876"
        ixy="2.36896908304756E-05"
        ixz="6.47472924207093E-06"
        iyy="0.112314099678239"
        iyz="-0.000178087137949001"
        izz="0.102779960315736" />
    </inertial>
    <visual>
      <origin
        xyz="0 0 0"
        rpy="0 0 0" />
      <geometry>
        <mesh
          filename="package://323Assembase_limit3/meshes/r_thumb_middle_Link.STL" />
      </geometry>
      <material
        name="">
        <color
          rgba="0.752941176470588 0.752941176470588 0.752941176470588 1" />
      </material>
    </visual>
    <collision>
      <origin
        xyz="0 0 0"
        rpy="0 0 0" />
      <geometry>
        <mesh
          filename="package://323Assembase_limit3/meshes/r_thumb_middle_Link.STL" />
      </geometry>
    </collision>
  </link>
  <joint
    name="r_thumb_middle"
    type="revolute">
    <origin
      xyz="0.0054723 -0.015035 0.0013638"
      rpy="0 0 0" />
    <parent
      link="r_thumb_base_Link" />
    <child
      link="r_thumb_middle_Link" />
    <axis
      xyz="0 0 1" />
    <limit
      lower="0"
      upper="1.5708"
      effort="0"
      velocity="0" />
  </joint>
  <link
    name="r_thumb_tip_Link">
    <inertial>
      <origin
        xyz="-0.468907404443901 0.0500294425604269 0.0157144307964266"
        rpy="0 0 0" />
      <mass
        value="1.3604423430361" />
      <inertia
        ixx="0.010826010663876"
        ixy="2.36896908304621E-05"
        ixz="6.47472924206443E-06"
        iyy="0.112314099678239"
        iyz="-0.000178087137948999"
        izz="0.102779960315736" />
    </inertial>
    <visual>
      <origin
        xyz="0 0 0"
        rpy="0 0 0" />
      <geometry>
        <mesh
          filename="package://323Assembase_limit3/meshes/r_thumb_tip_Link.STL" />
      </geometry>
      <material
        name="">
        <color
          rgba="0.752941176470588 0.752941176470588 0.752941176470588 1" />
      </material>
    </visual>
    <collision>
      <origin
        xyz="0 0 0"
        rpy="0 0 0" />
      <geometry>
        <mesh
          filename="package://323Assembase_limit3/meshes/r_thumb_tip_Link.STL" />
      </geometry>
    </collision>
  </link>
  <joint
    name="r_thumb_tip"
    type="revolute">
    <origin
      xyz="0.0067619 -0.014501 0"
      rpy="0 0 0" />
    <parent
      link="r_thumb_middle_Link" />
    <child
      link="r_thumb_tip_Link" />
    <axis
      xyz="0 0 1" />
    <limit
      lower="0"
      upper="1.5708"
      effort="0"
      velocity="0" />
  </joint>
</robot>
